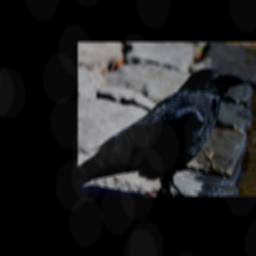Crow: (79, 67, 248, 196)
